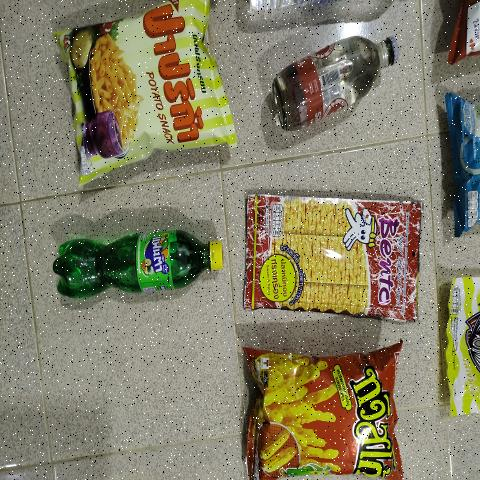bento_red: (249, 194, 419, 314)
fanta_green: (57, 233, 228, 295)
paprika: (55, 14, 228, 162)
singha_soda: (270, 36, 406, 128)
twisco: (251, 352, 397, 478)
